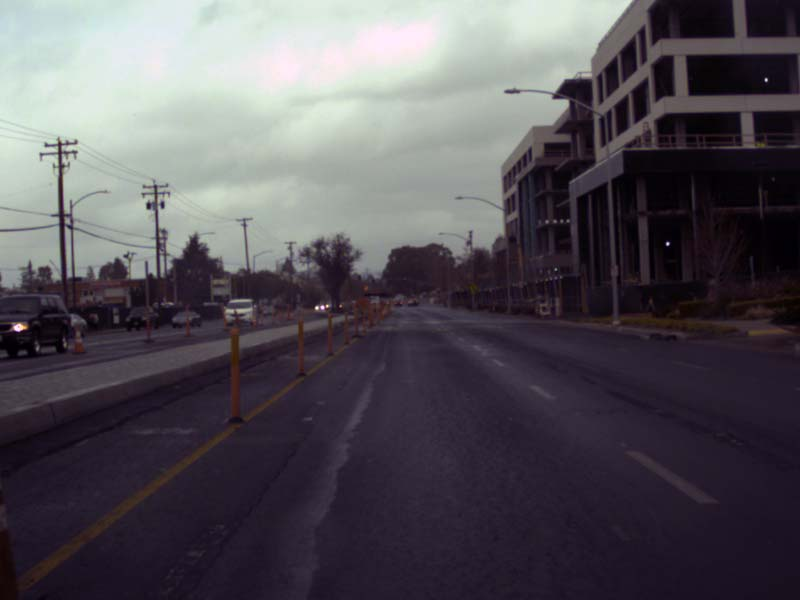Red: (437, 288, 439, 293), (403, 277, 405, 282), (389, 277, 391, 282), (371, 277, 373, 282)
